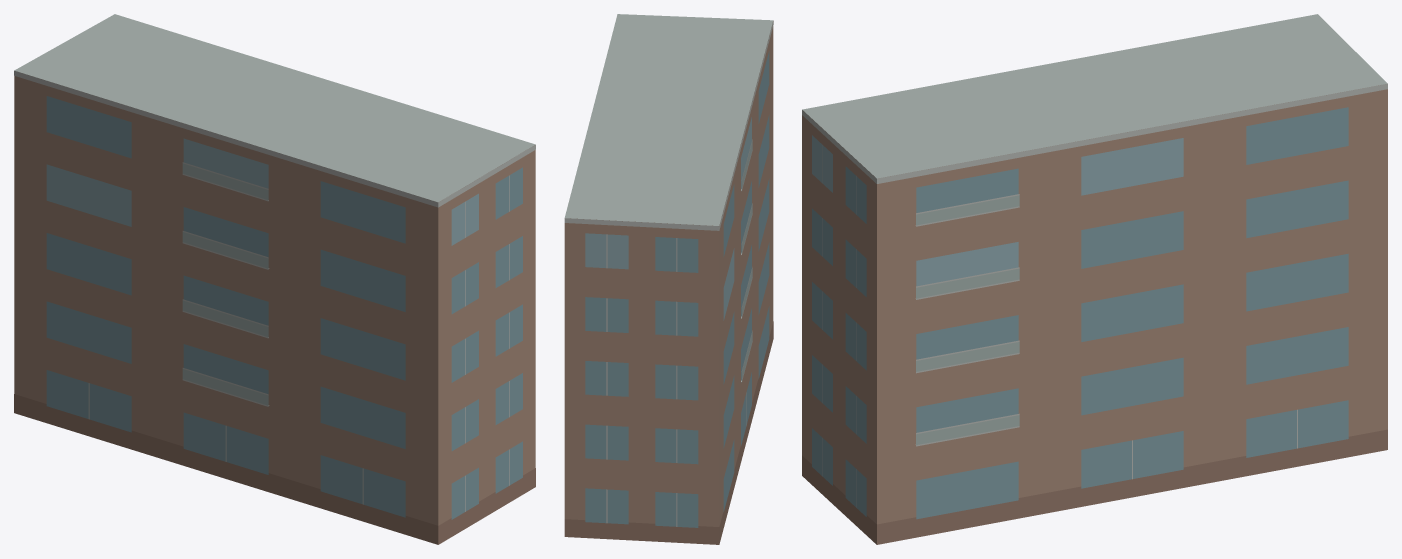
File: survey-upis-32997030.glb
3 renders of one model, left to right at view 1: azimuth 30°, elevation 25°; view 2: azimuth 150°, elevation 25°; view 3: azimuth 270°, elevation 25°, orthographic. The views are drawn at different scales.
Visible parts, largest first — view 1: survey-upis-32997030.tmp; view 2: survey-upis-32997030.tmp; view 3: survey-upis-32997030.tmp.
Part boxes in pixels (x1=…): survey-upis-32997030.tmp: x1=14, y1=14, x2=535, y2=544; survey-upis-32997030.tmp: x1=564, y1=14, x2=773, y2=544; survey-upis-32997030.tmp: x1=802, y1=14, x2=1387, y2=544.
Bounding box in the file's own units: 15.58 × 16.15 × 23.42.
